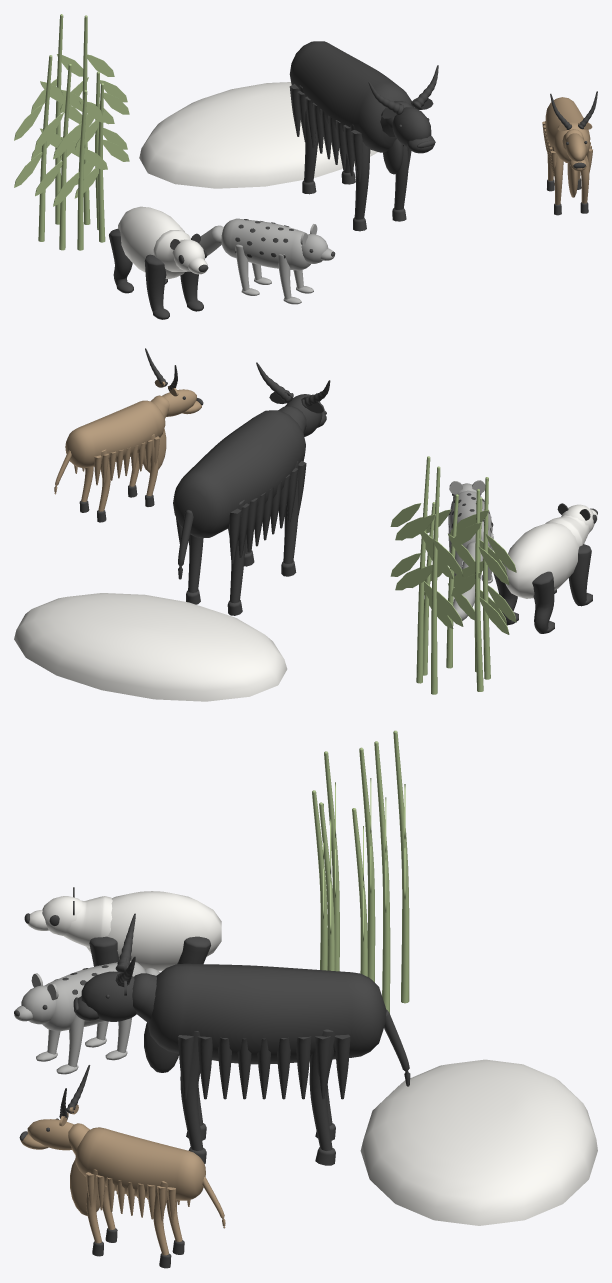
The model's file is polar-tundra-and-alpine-fauna-himalayan-ridge-a02872cf__6090.glb.
3 renders of one model, top to bottom at view 1: azimuth 30°, elevation 25°; view 2: azimuth 150°, elevation 25°; view 3: azimuth 270°, elevation 25°, orthographic. The views are drawn at different scales.
Visible parts, largest first — view 1: 003-snow-drift/0, 000-yak/0, 004-bamboo-clump/1, 002-snow-leopard/0, 004-bamboo-clump/0, 005-giant-panda/0, 001-himalayan-tahr/0, 005-giant-panda/1, 000-yak/3, 001-himalayan-tahr/3; view 2: 003-snow-drift/0, 000-yak/0, 001-himalayan-tahr/0, 004-bamboo-clump/1, 004-bamboo-clump/0, 005-giant-panda/0, 005-giant-panda/1, 002-snow-leopard/0, 000-yak/3, 001-himalayan-tahr/3; view 3: 000-yak/0, 003-snow-drift/0, 001-himalayan-tahr/0, 004-bamboo-clump/0, 005-giant-panda/0, 002-snow-leopard/0, 005-giant-panda/1, 000-yak/3, 004-bamboo-clump/1, 001-himalayan-tahr/3.
Boxes of the visible parts, x1=… form: 003-snow-drift/0: x1=139, y1=82, x2=377, y2=188; 000-yak/0: x1=289, y1=41, x2=434, y2=219; 004-bamboo-clump/1: x1=14, y1=54, x2=129, y2=206; 002-snow-leopard/0: x1=199, y1=218, x2=334, y2=304; 004-bamboo-clump/0: x1=38, y1=14, x2=105, y2=250; 005-giant-panda/0: x1=118, y1=206, x2=207, y2=278; 001-himalayan-tahr/0: x1=542, y1=97, x2=592, y2=204; 005-giant-panda/1: x1=109, y1=228, x2=207, y2=319; 000-yak/3: x1=302, y1=65, x2=438, y2=231; 001-himalayan-tahr/3: x1=547, y1=91, x2=597, y2=215; 003-snow-drift/0: x1=14, y1=593, x2=287, y2=701; 000-yak/0: x1=173, y1=391, x2=326, y2=603; 001-himalayan-tahr/0: x1=54, y1=379, x2=201, y2=511; 004-bamboo-clump/1: x1=390, y1=503, x2=516, y2=634; 004-bamboo-clump/0: x1=416, y1=456, x2=490, y2=694; 005-giant-panda/0: x1=504, y1=504, x2=597, y2=598; 005-giant-panda/1: x1=493, y1=503, x2=596, y2=633; 002-snow-leopard/0: x1=448, y1=480, x2=493, y2=620; 000-yak/3: x1=186, y1=362, x2=330, y2=615; 001-himalayan-tahr/3: x1=79, y1=348, x2=177, y2=522; 000-yak/0: x1=74, y1=958, x2=410, y2=1150; 003-snow-drift/0: x1=360, y1=1059, x2=597, y2=1225; 001-himalayan-tahr/0: x1=20, y1=1104, x2=225, y2=1255; 004-bamboo-clump/0: x1=312, y1=730, x2=409, y2=1013; 005-giant-panda/0: x1=27, y1=891, x2=221, y2=971; 002-snow-leopard/0: x1=14, y1=961, x2=160, y2=1074; 005-giant-panda/1: x1=49, y1=887, x2=210, y2=966; 000-yak/3: x1=115, y1=913, x2=335, y2=1165; 004-bamboo-clump/1: x1=323, y1=778, x2=405, y2=941; 001-himalayan-tahr/3: x1=59, y1=1065, x2=184, y2=1268.
Bounding box in the file's own units: 6.11 × 2.52 × 4.92.
